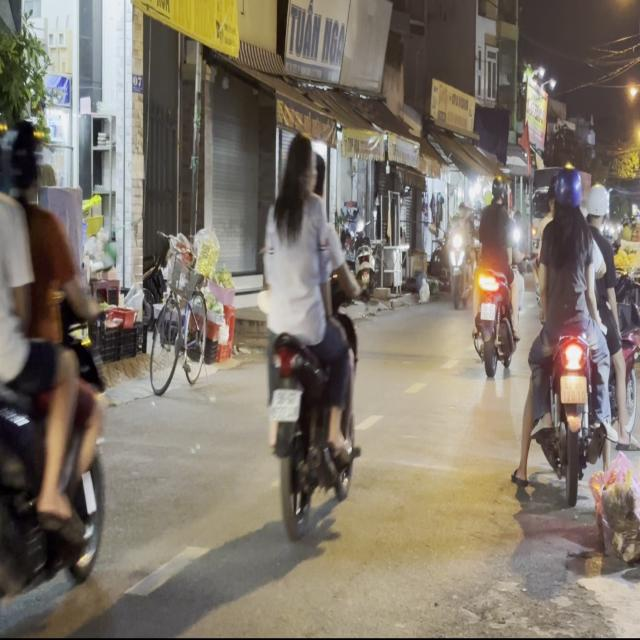helmet: (4, 120, 40, 200), (552, 164, 580, 213), (585, 182, 609, 224), (489, 176, 506, 204)
licenseplate: (0, 114, 112, 635), (256, 125, 362, 548), (512, 160, 635, 500), (470, 174, 522, 376)
motorcyclist: (278, 132, 316, 206)
nohelmet: (269, 388, 300, 420), (560, 374, 586, 402), (480, 302, 495, 320)
